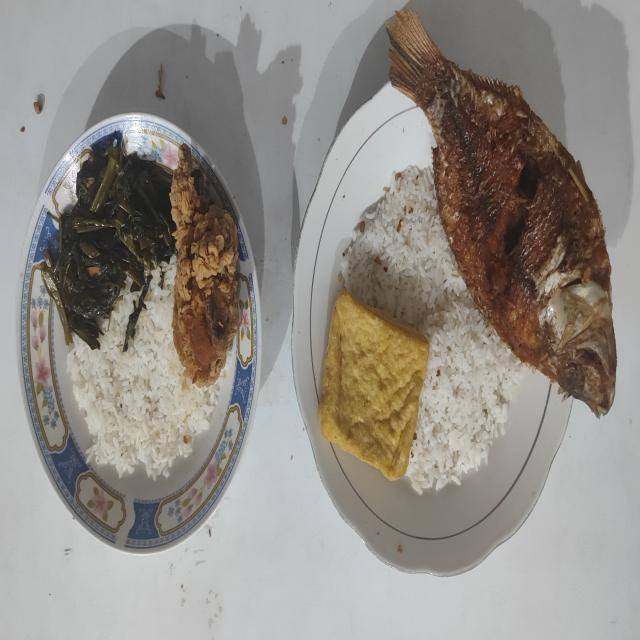ikan_mujair: (387, 8, 616, 415)
nasi_putih: (340, 160, 524, 490), (66, 255, 220, 479)
tahu_goreng: (318, 289, 429, 480)
tumis_kangkung: (42, 133, 176, 351)
